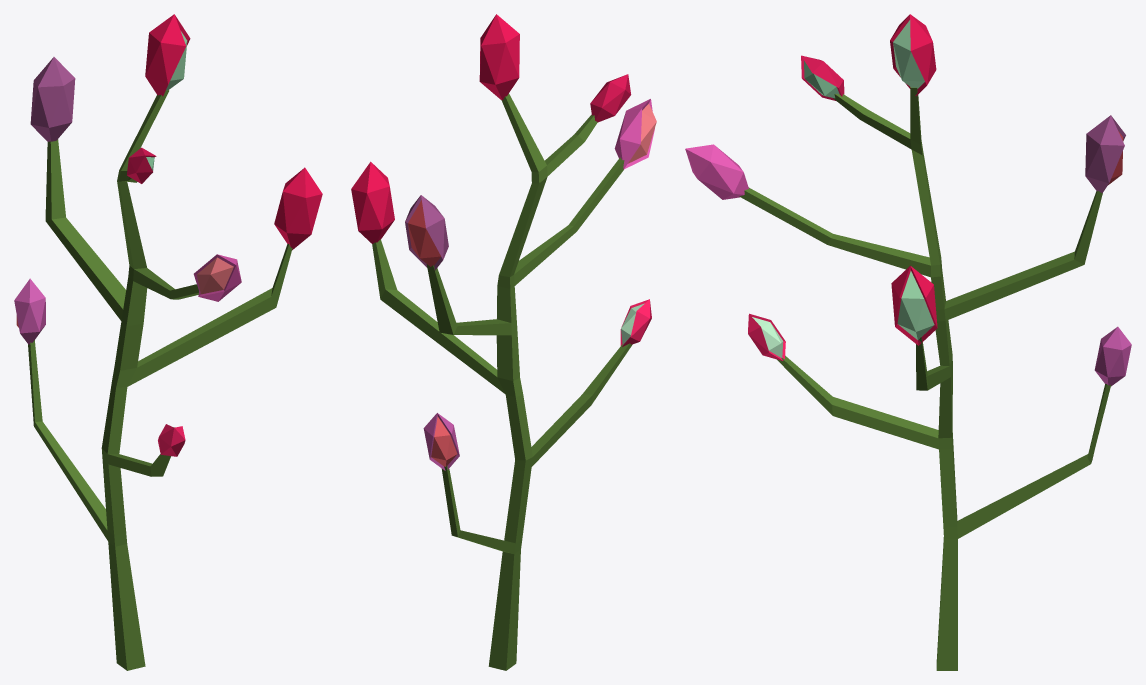
The model's file is Plant_04.glb.
The picture shows the model from 3 angles, left to right: view 1: azimuth 30°, elevation 25°; view 2: azimuth 150°, elevation 25°; view 3: azimuth 270°, elevation 25°; orthographic projection. The views are drawn at different scales.
Parts seen in each view (by area): view 1: Plant_04; view 2: Plant_04; view 3: Plant_04.
Boxes of the visible parts, left/top/right/bottom form: Plant_04: left=14, top=14, right=322, bottom=670; Plant_04: left=351, top=14, right=656, bottom=670; Plant_04: left=685, top=14, right=1131, bottom=670.
Bounding box in the file's own units: 0.5165 × 1.39 × 0.8479.
1 material, 1 textured.
